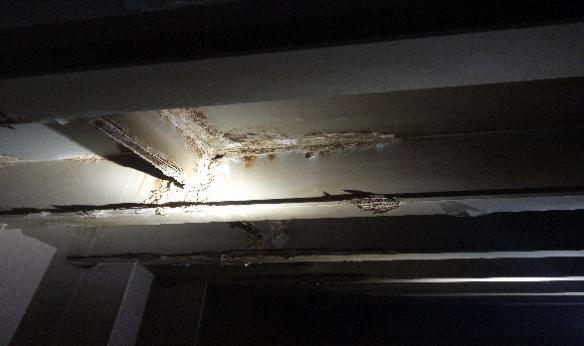corrosion: (223, 123, 407, 161), (178, 107, 232, 160), (339, 187, 403, 211)
